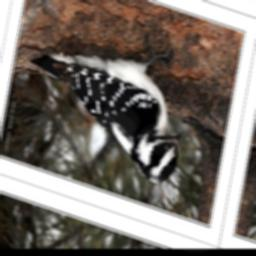Woodpecker: (11, 5, 196, 191)
